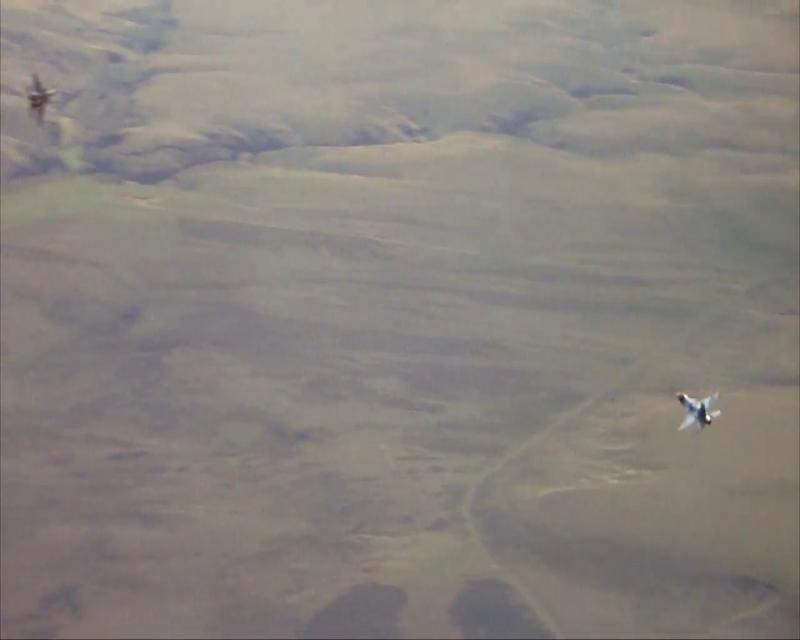UAV: (673, 389, 721, 433)
